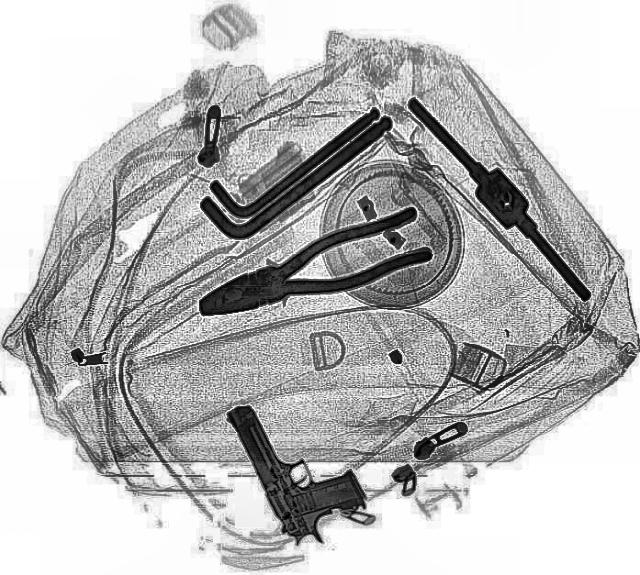Gun: (223, 384, 377, 552)
Pliers: (183, 203, 439, 337)
